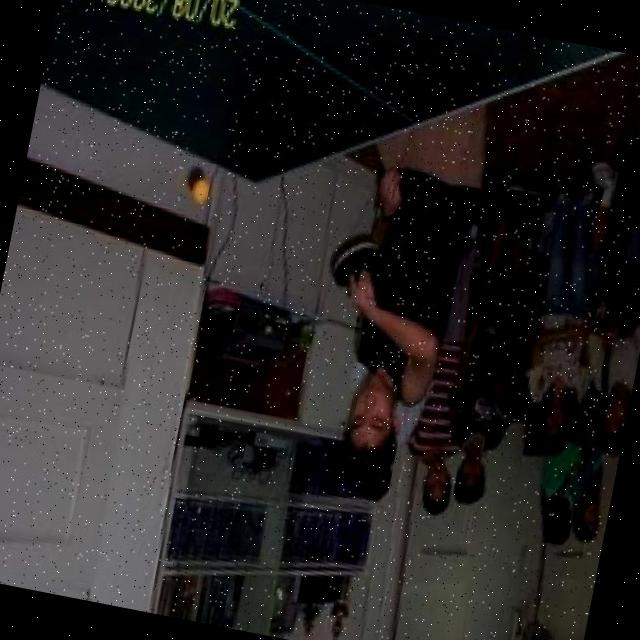ping-pong-ball: (184, 170, 209, 208)
